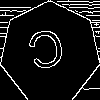C: (25, 27, 70, 80)
